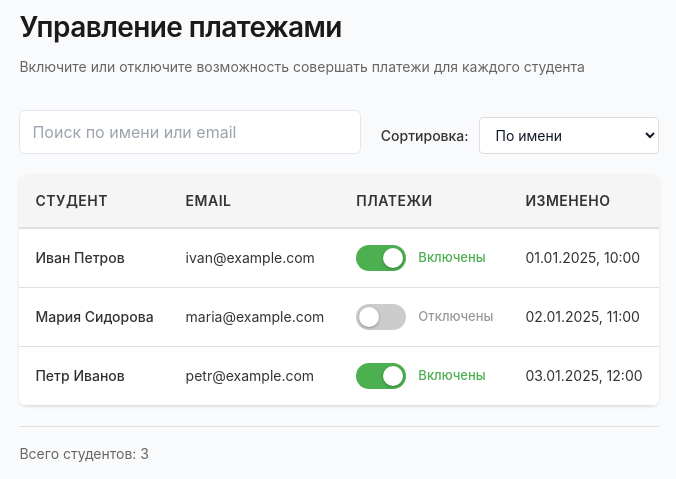
PaymentSettings › Search Functionality › should clear filter when search is cleared
Type "Иван" into the field with test id "search-input" at (190, 132), box 19,110 -> 361,154
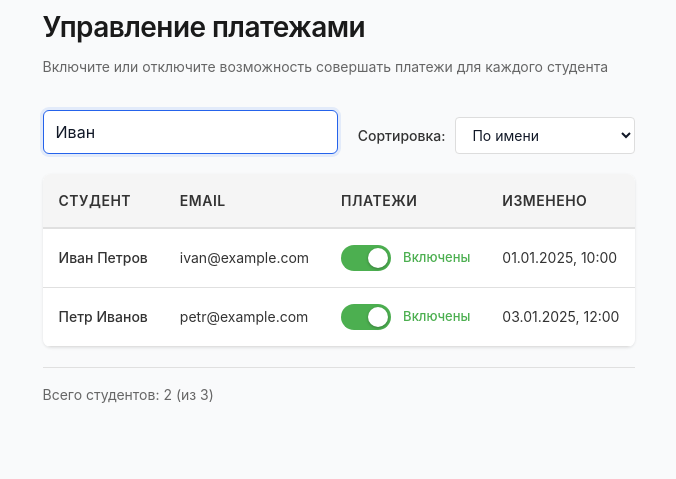
Expected: the text "Мария Сидорова" is gone
Clear the field with test id "search-input" at (190, 132), box 42,110 -> 338,154
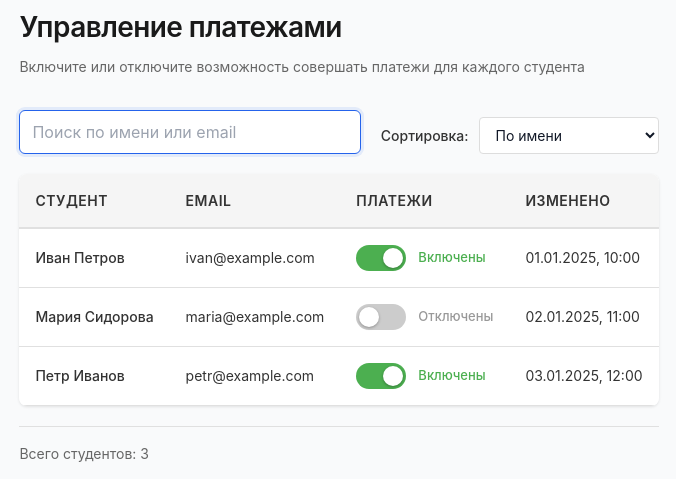
Expected: the text "Иван Петров" is shown, 19,228 -> 170,287
Expected: the text "Мария Сидорова" is shown, 19,287 -> 170,346
